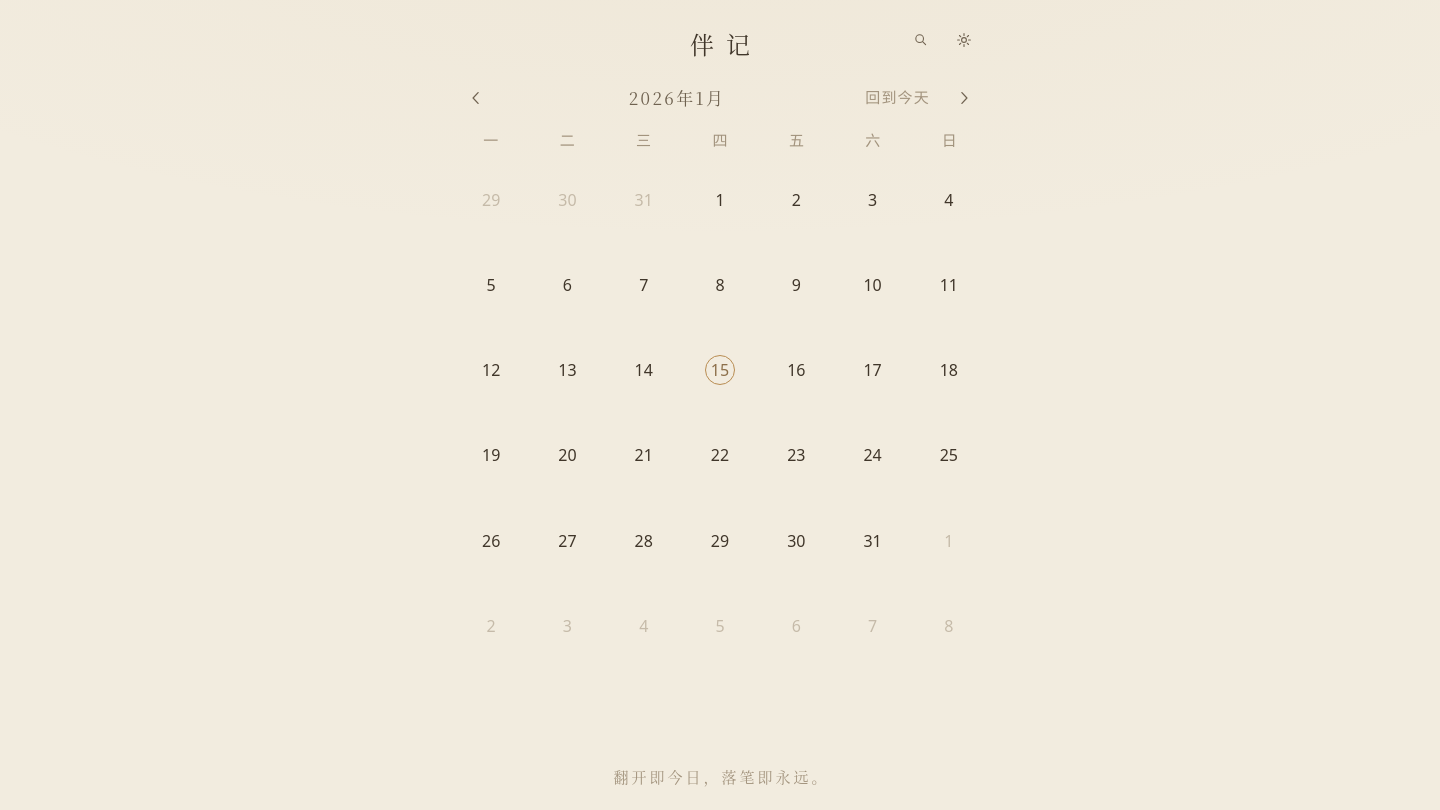
Scenario: 搜索入口与纸面 › 月历页眉放大镜请出纸片；输入即刻持焦；空查询耳语「想找哪一笔？」
Click the button named "搜索手札" at (920, 40), box [898, 18, 942, 62]
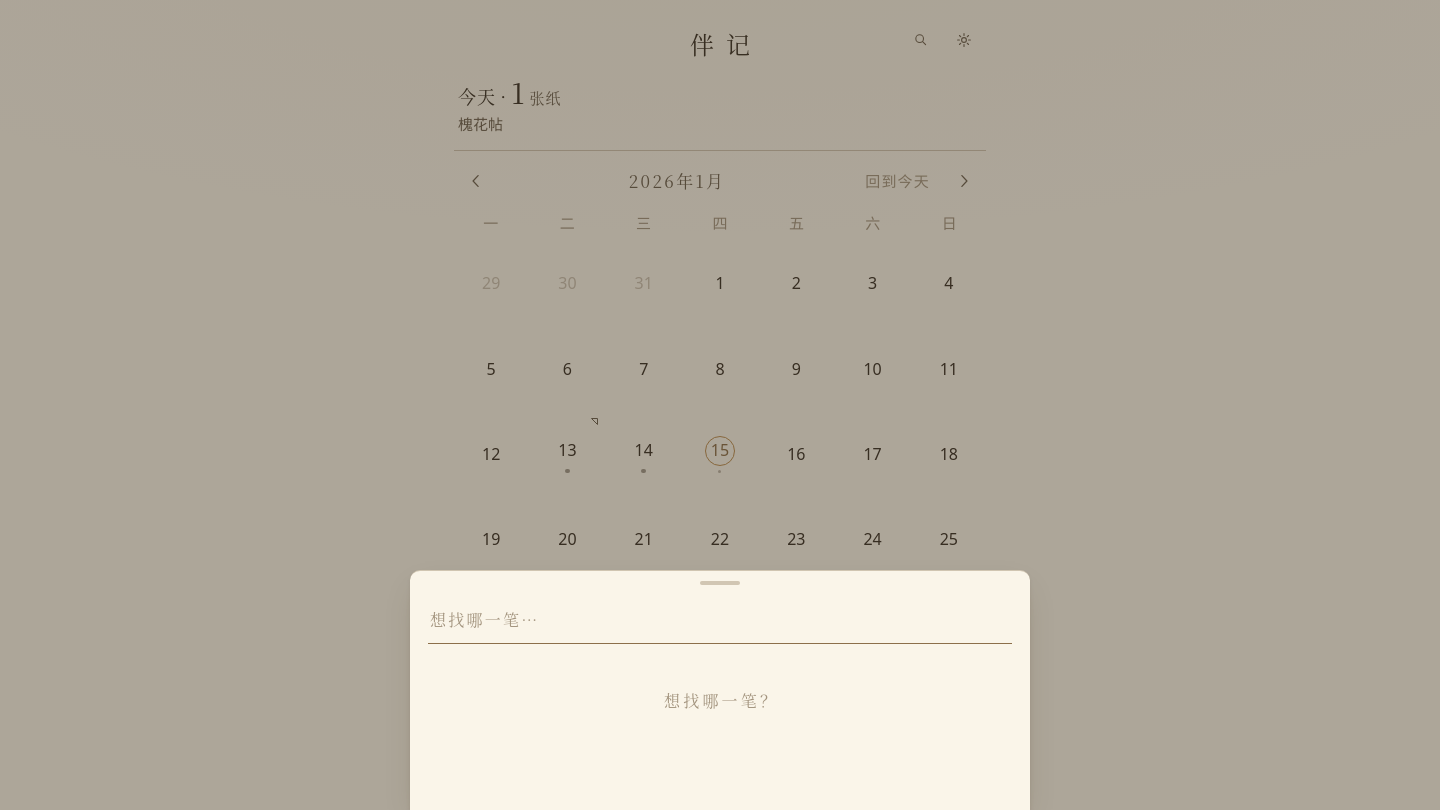
Check: the text "想找哪一笔？" is shown, box [664, 689, 779, 712]
